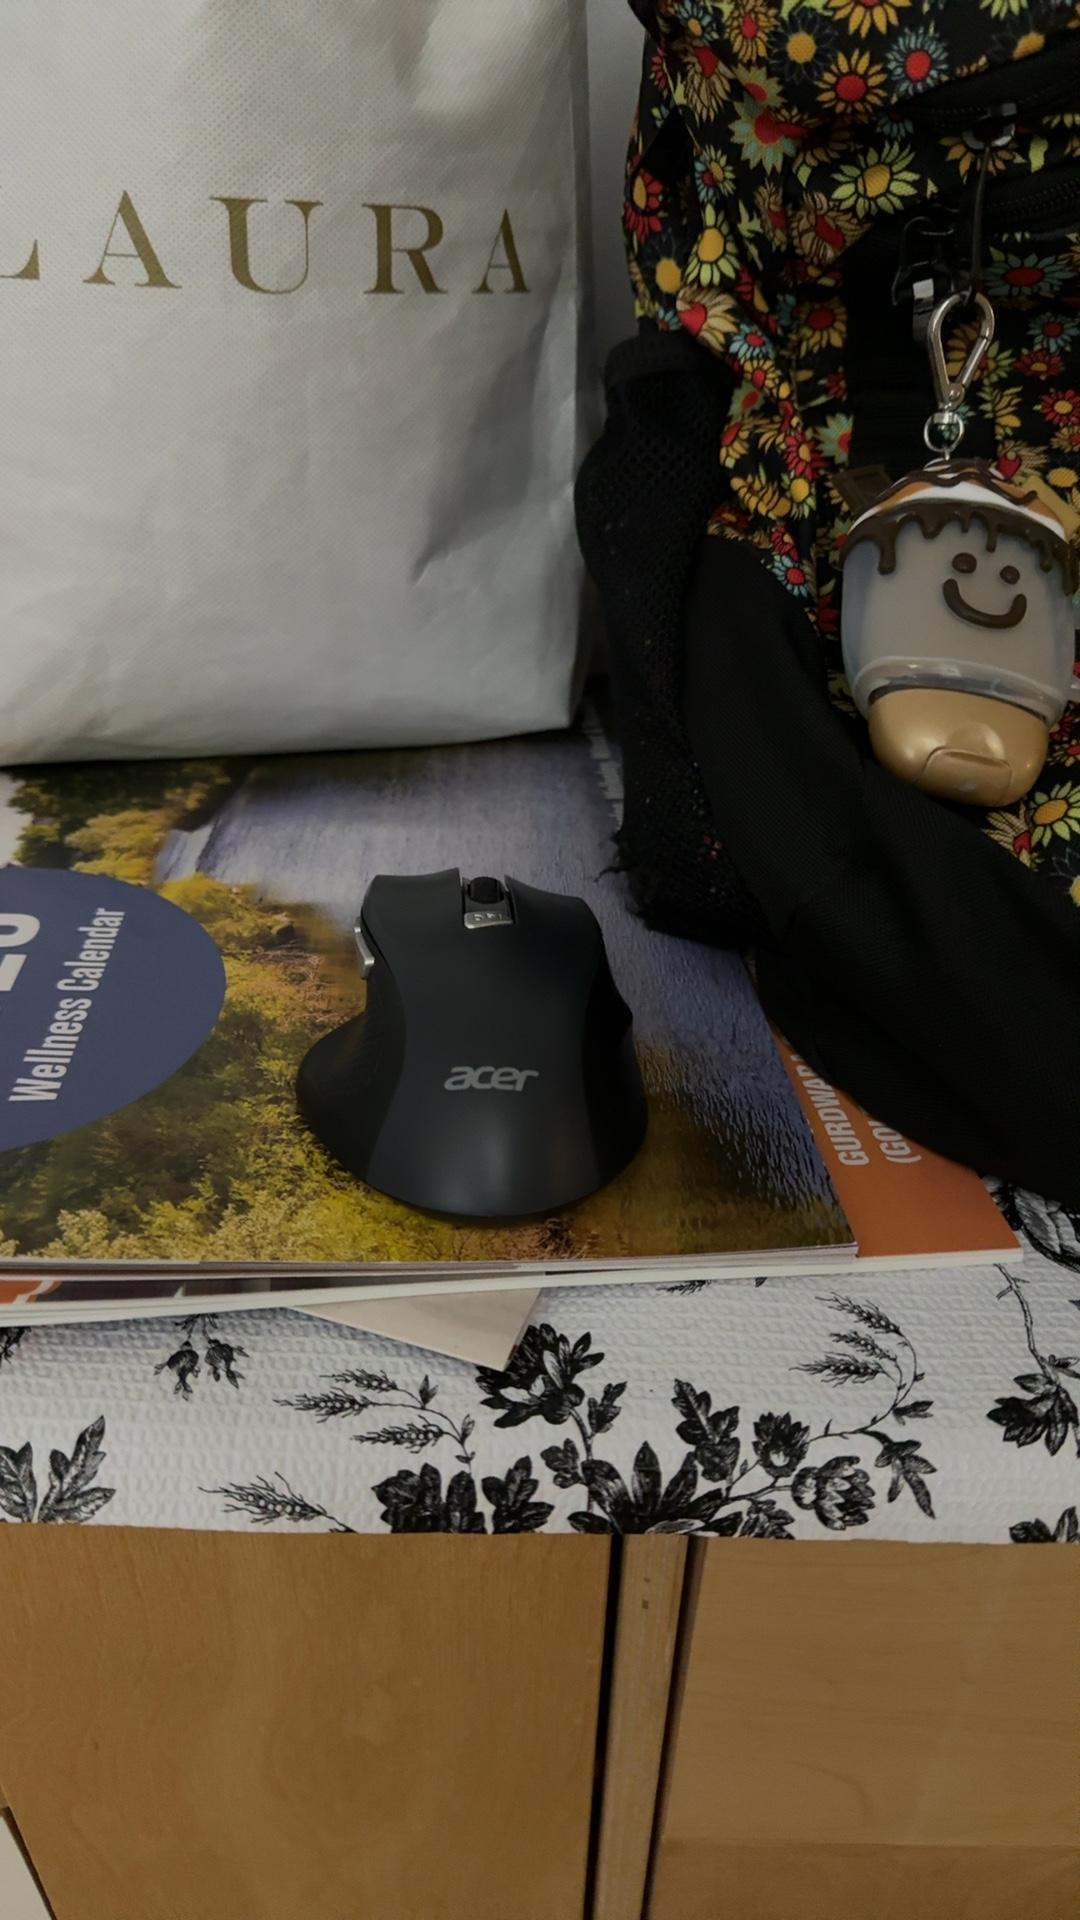Mouse: (293, 865, 678, 1242)
